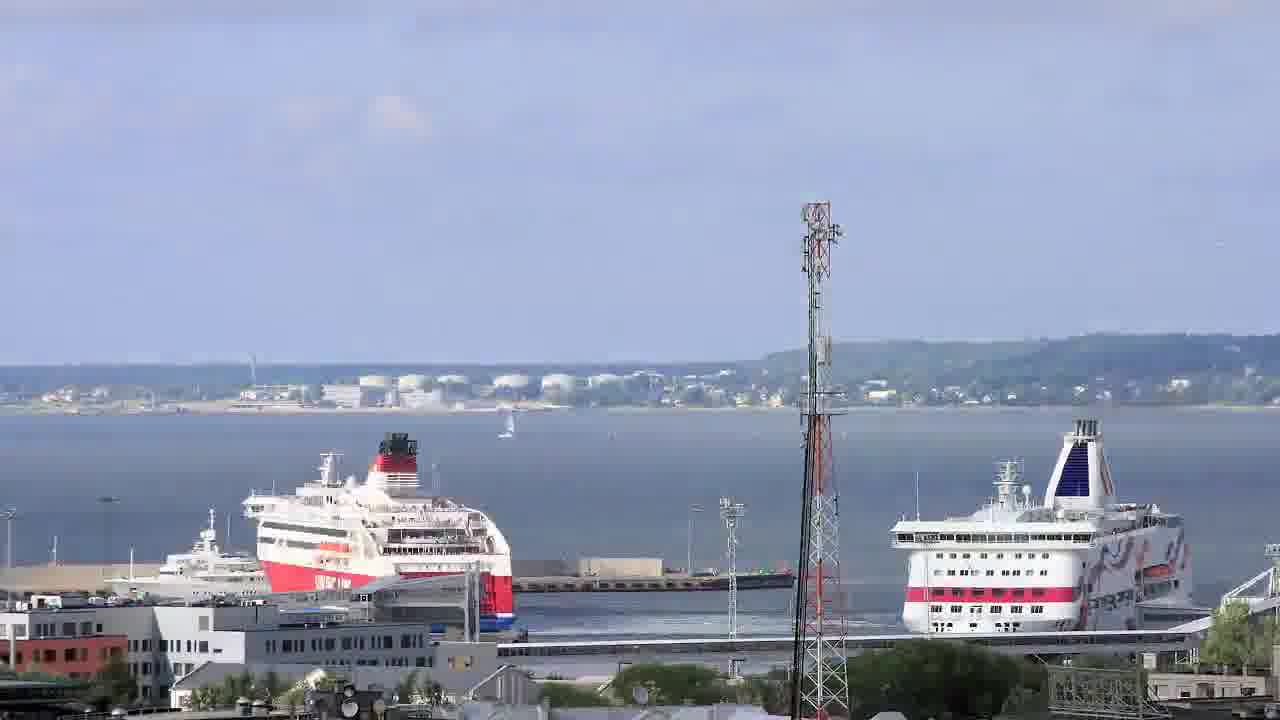type-2: (482, 401, 548, 454)
type-3: (868, 415, 1225, 638), (237, 437, 510, 625), (89, 531, 270, 613)
